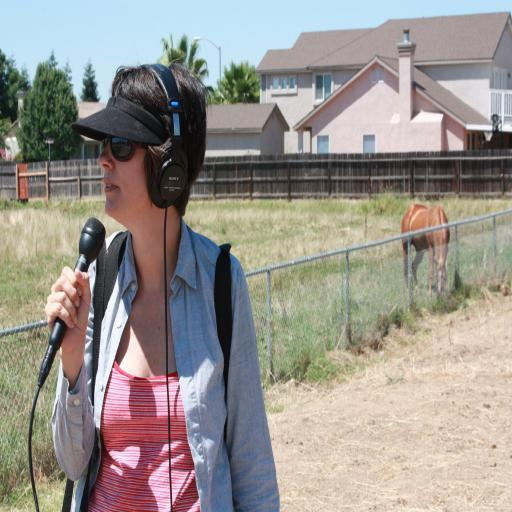horse: (401, 202, 451, 298)
